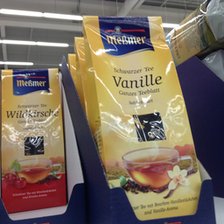tea: (82, 15, 203, 220), (2, 67, 68, 214)
